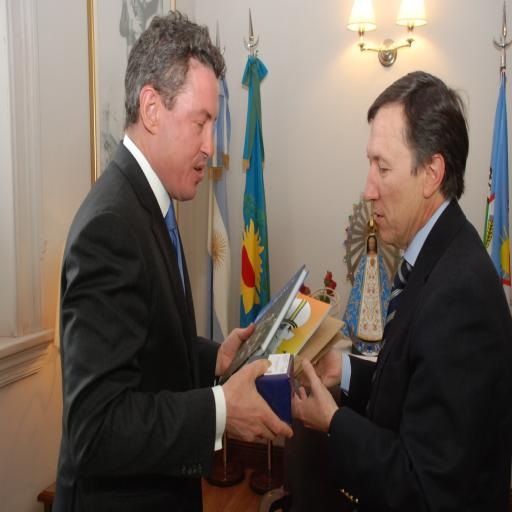Person: (51, 87, 297, 428), (317, 114, 512, 451)
no_gloves: (220, 325, 288, 387), (292, 324, 338, 374), (212, 294, 260, 339)
no_goggle: (172, 158, 226, 178), (362, 186, 415, 206)
no_helmet: (117, 89, 238, 146), (362, 126, 482, 183)
none: (62, 175, 228, 418), (372, 241, 502, 423)
